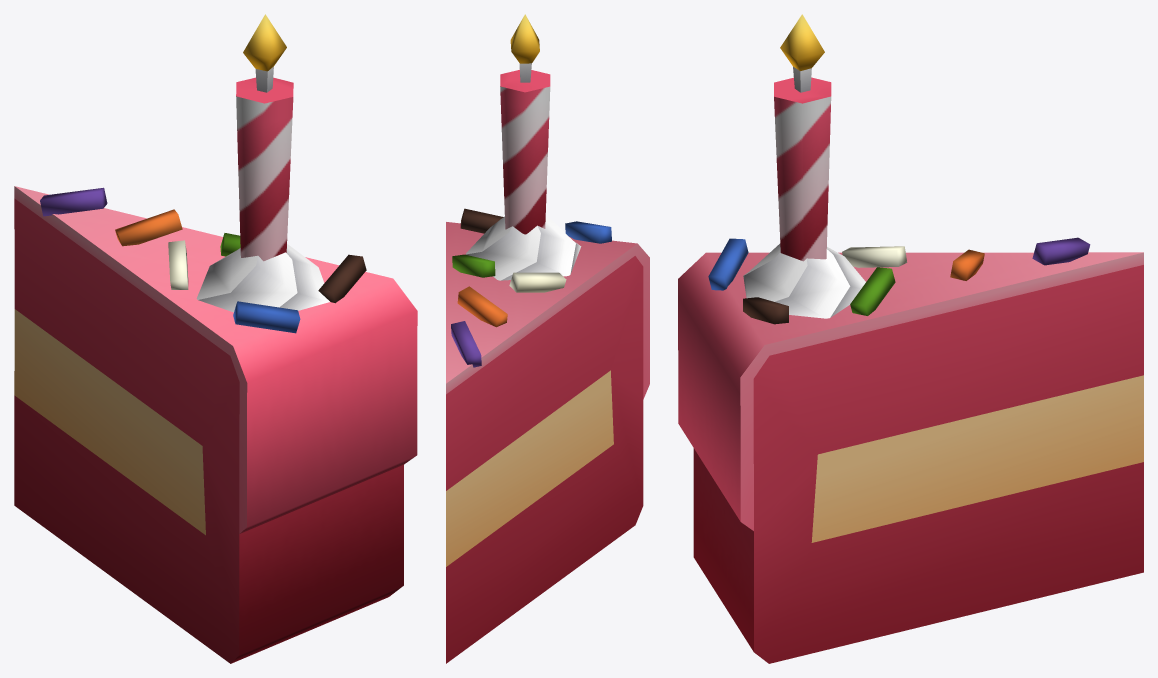
Rendered from m_BirthdayCake02_Slice01.fbx.
3 renders of one model, left to right at view 1: azimuth 30°, elevation 25°; view 2: azimuth 150°, elevation 25°; view 3: azimuth 270°, elevation 25°, orthographic. The views are drawn at different scales.
Visible parts, largest first — view 1: m_BirthdayCake02_Slice01; view 2: m_BirthdayCake02_Slice01; view 3: m_BirthdayCake02_Slice01.
Boxes of the visible parts, x1=… form: m_BirthdayCake02_Slice01: x1=14, y1=14, x2=417, y2=663; m_BirthdayCake02_Slice01: x1=446, y1=14, x2=649, y2=663; m_BirthdayCake02_Slice01: x1=678, y1=14, x2=1143, y2=663.
Bounding box in the file's own units: 7.51 × 20.5 × 14.48.
